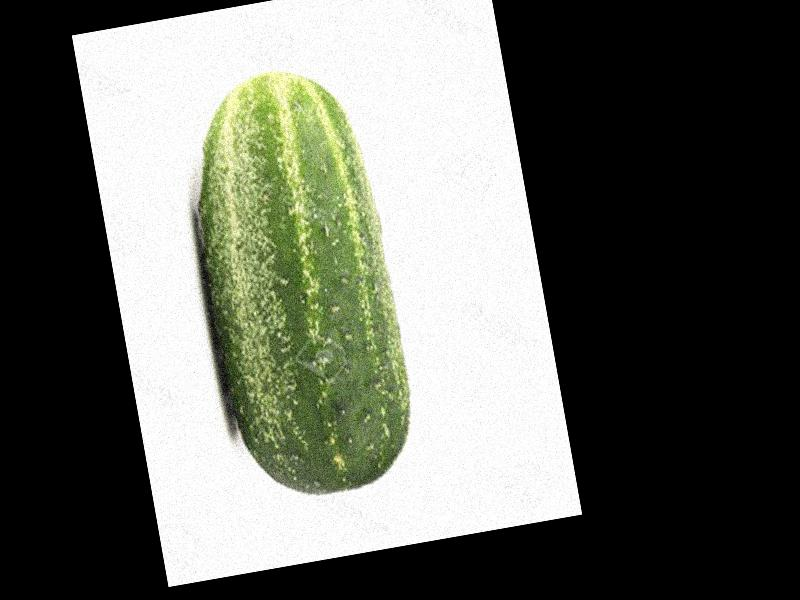Cucumber: (171, 61, 425, 511)
